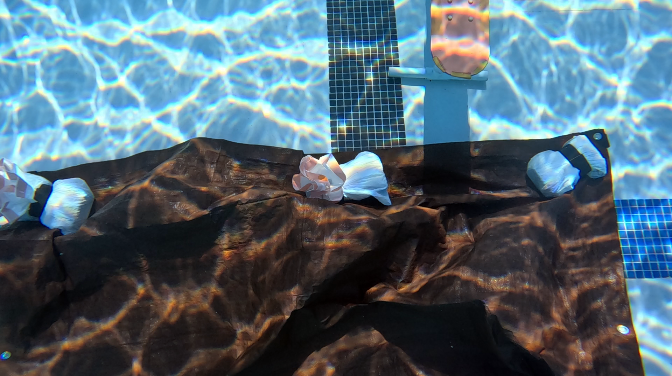pathmarker: (429, 0, 487, 76)
sandbag: (0, 130, 638, 375)
